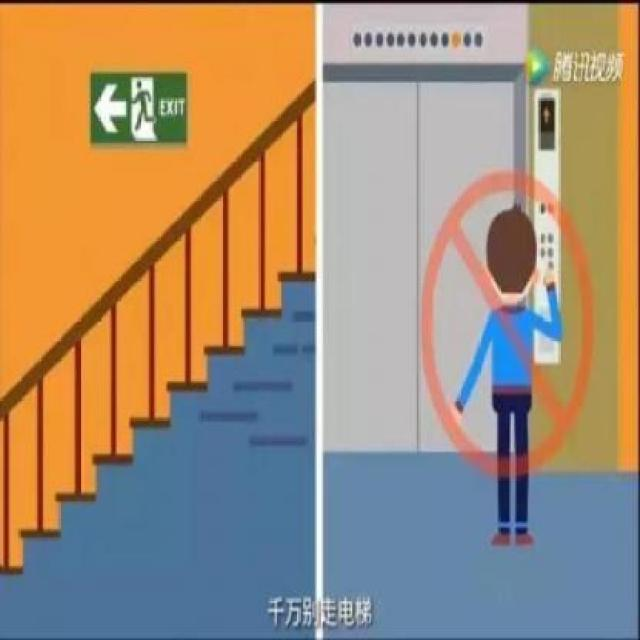exit_sign: (89, 64, 192, 144)
